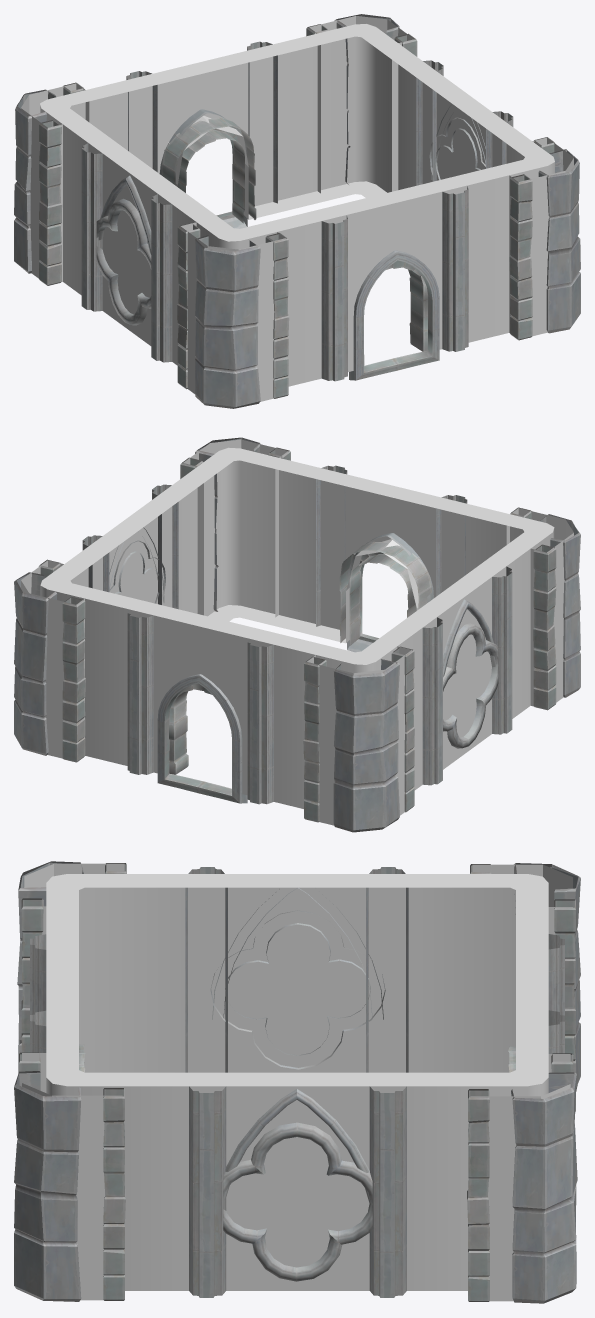
File: SM_TowerF_Mid2Door.fbx
The picture shows the model from 3 angles, top to bottom: view 1: azimuth 30°, elevation 25°; view 2: azimuth 150°, elevation 25°; view 3: azimuth 270°, elevation 25°; orthographic projection. The views are drawn at different scales.
Parts seen in each view (by area): view 1: SM_TowerF_Mid2Door_LOD0; view 2: SM_TowerF_Mid2Door_LOD0; view 3: SM_TowerF_Mid2Door_LOD0.
Boxes of the visible parts, left/top/right/bottom form: SM_TowerF_Mid2Door_LOD0: left=14, top=14, right=580, bottom=408; SM_TowerF_Mid2Door_LOD0: left=14, top=437, right=580, bottom=832; SM_TowerF_Mid2Door_LOD0: left=14, top=861, right=580, bottom=1303.
Size of what is drawn, in the model's own units: 11.29 by 4.9 by 11.29.
